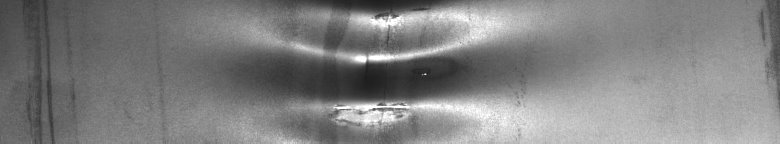ke: (292, 4, 462, 122)
